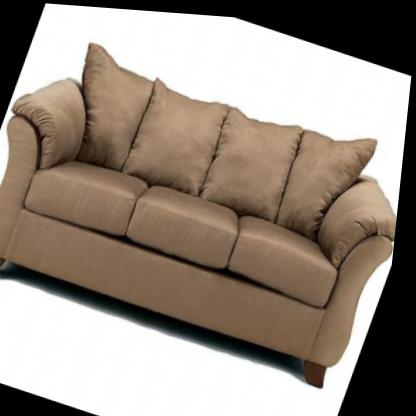Sofa: (0, 18, 415, 394)
